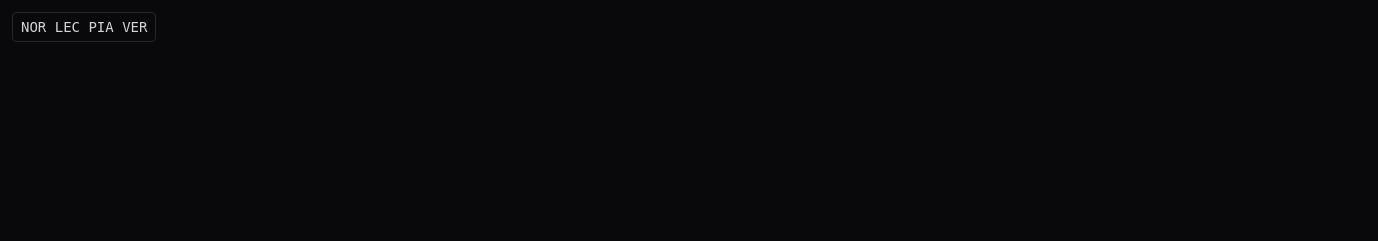
Test case: Pace comparison widget › Four drivers at most: toggling HAM onto VER, NOR, LEC, PIA leaves the setting unchanged
Later steps or results of the test are not shown.
Click the button with aria-label "Drivers for Pace compare widget" at (84, 27), box [12,12,156,42]
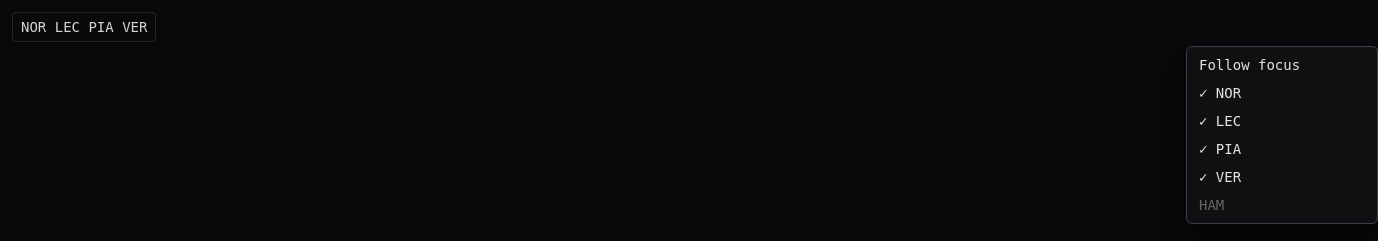
Now the menu item "HAM" is disabled, box [1191,191,1373,219]
